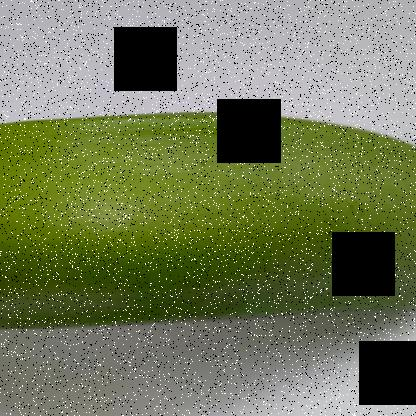freshunripe: (1, 84, 415, 353)
